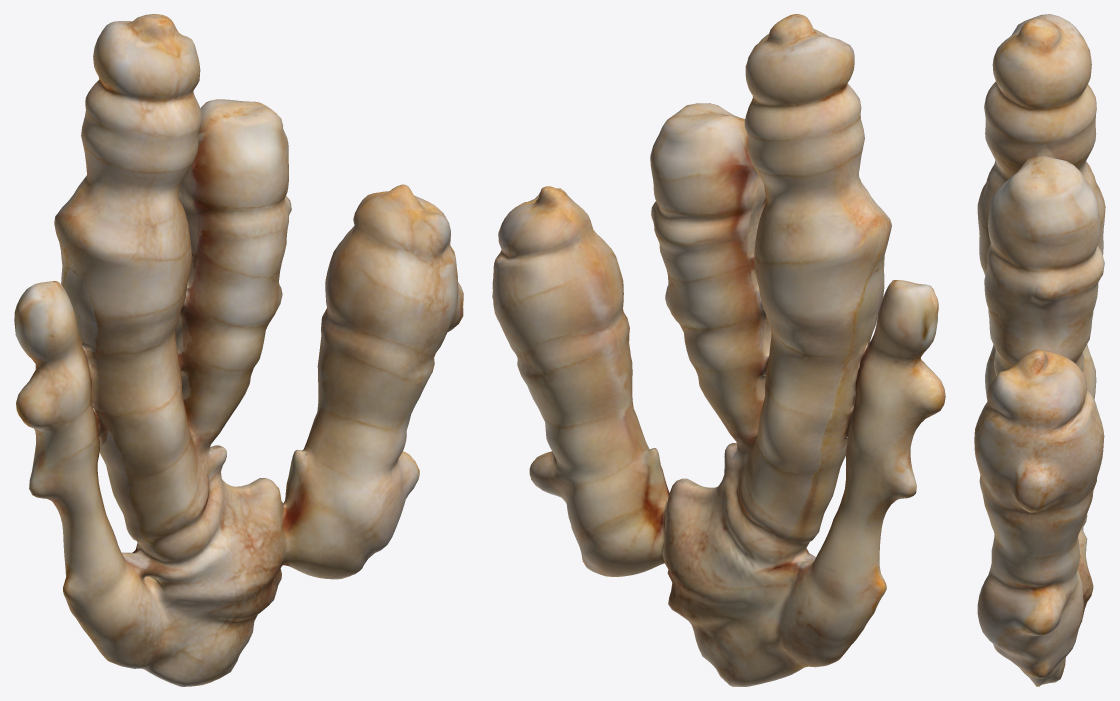
The model's file is ginger.glb.
The picture shows the model from 3 angles, left to right: view 1: azimuth 30°, elevation 25°; view 2: azimuth 150°, elevation 25°; view 3: azimuth 270°, elevation 25°; orthographic projection. The views are drawn at different scales.
Parts seen in each view (by area): view 1: Mesh_0.003; view 2: Mesh_0.003; view 3: Mesh_0.003.
Part boxes in pixels (x1,y1,x2,y2): Mesh_0.003: (14,14,463,686); Mesh_0.003: (492,14,945,686); Mesh_0.003: (974,14,1105,686).
Bounding box in the file's own units: 1.36 × 1.99 × 0.3717.
1 material, 1 textured.
